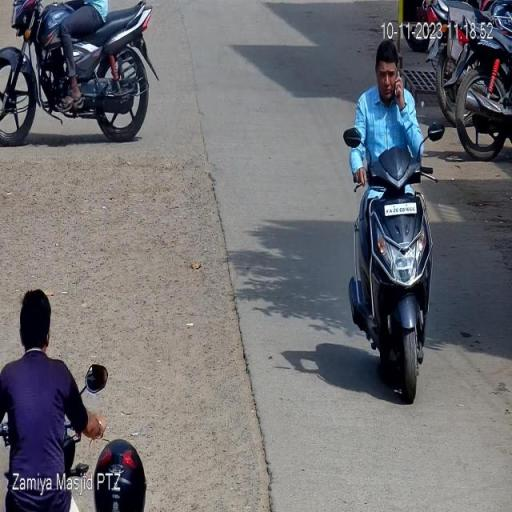using mobile: (394, 62, 406, 112)
